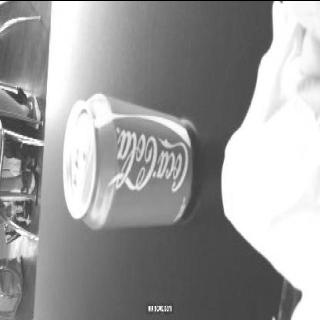alumunium_can: (62, 92, 195, 230)
